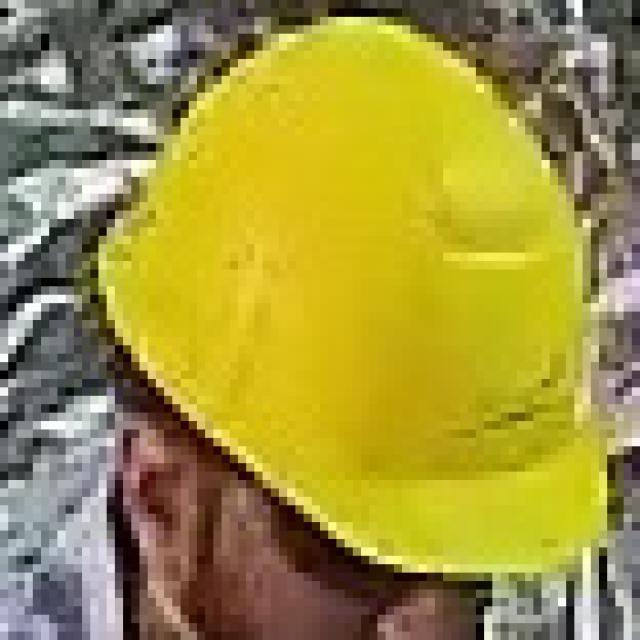yellow helmet: (99, 1, 634, 591)
